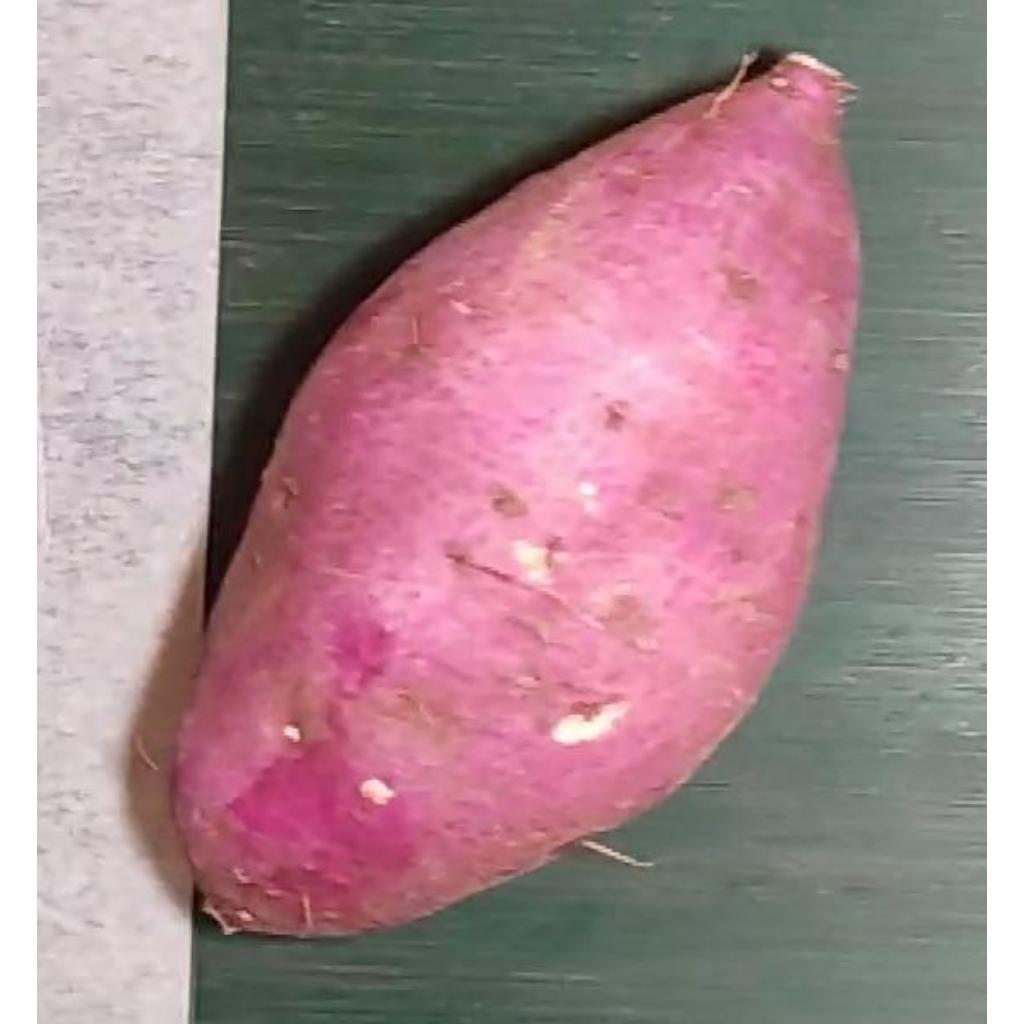Sweet Potato: (165, 54, 859, 948)
